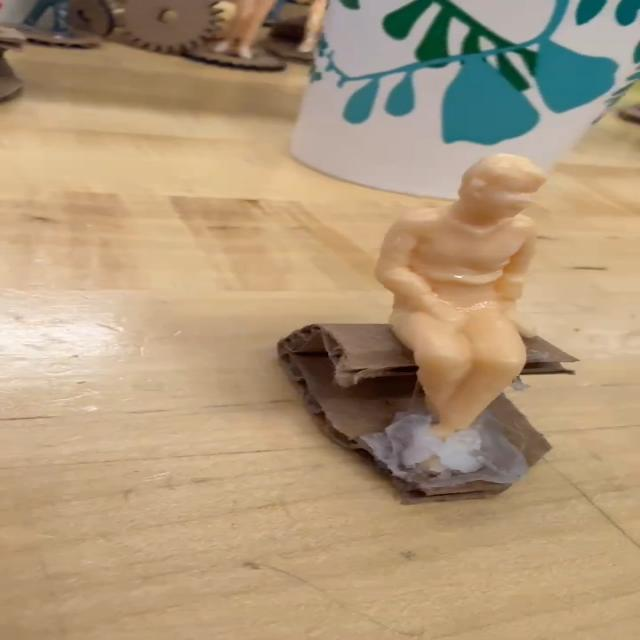Unauthorized: (370, 148, 545, 420)
